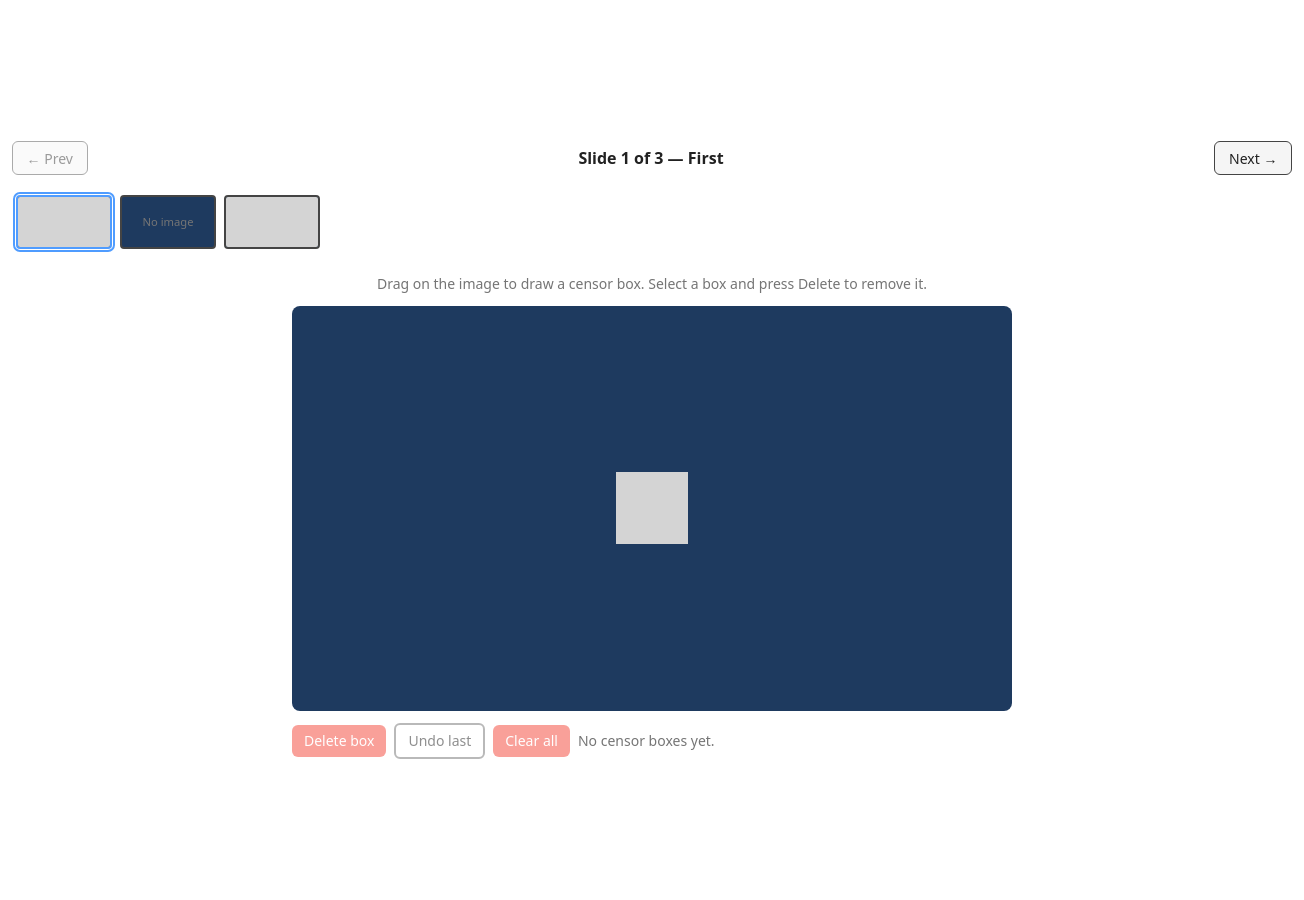
Test: CensorStep › navigates with Next / Prev, disabling at the ends
expect the button with aria-label "Previous slide" is disabled: met, box x1=12 y1=141 x2=88 y2=175
Click the button with aria-label "Next slide".
click(1253, 158)  # box x1=1214 y1=141 x2=1292 y2=175
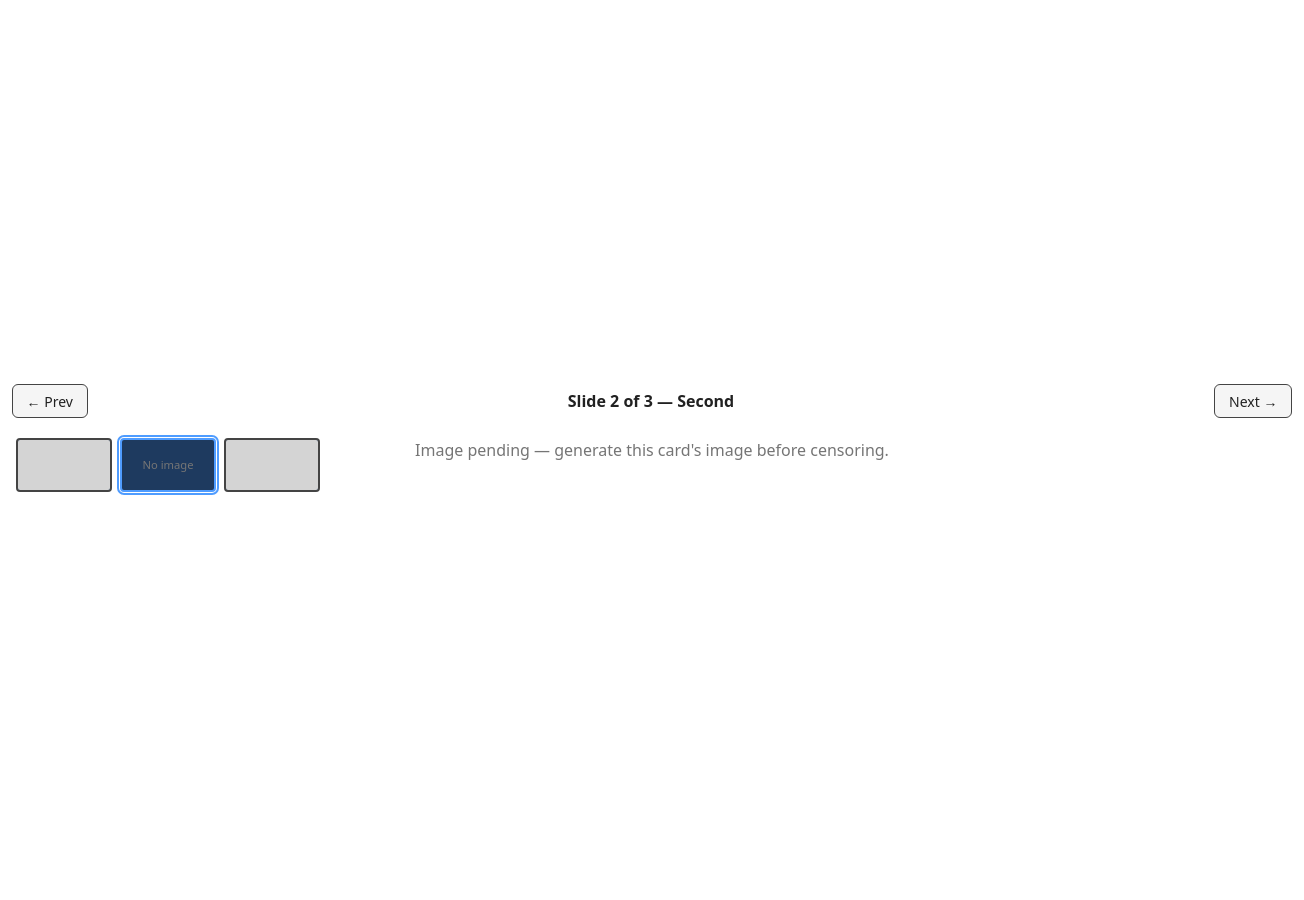
expect the text "Slide 2 of 3 — Second" is shown: met, box x1=568 y1=390 x2=734 y2=412
expect the button with aria-label "Previous slide" is enabled: met, box x1=12 y1=384 x2=88 y2=418
Click the button with aria-label "Next slide".
click(1253, 401)  # box x1=1214 y1=384 x2=1292 y2=418
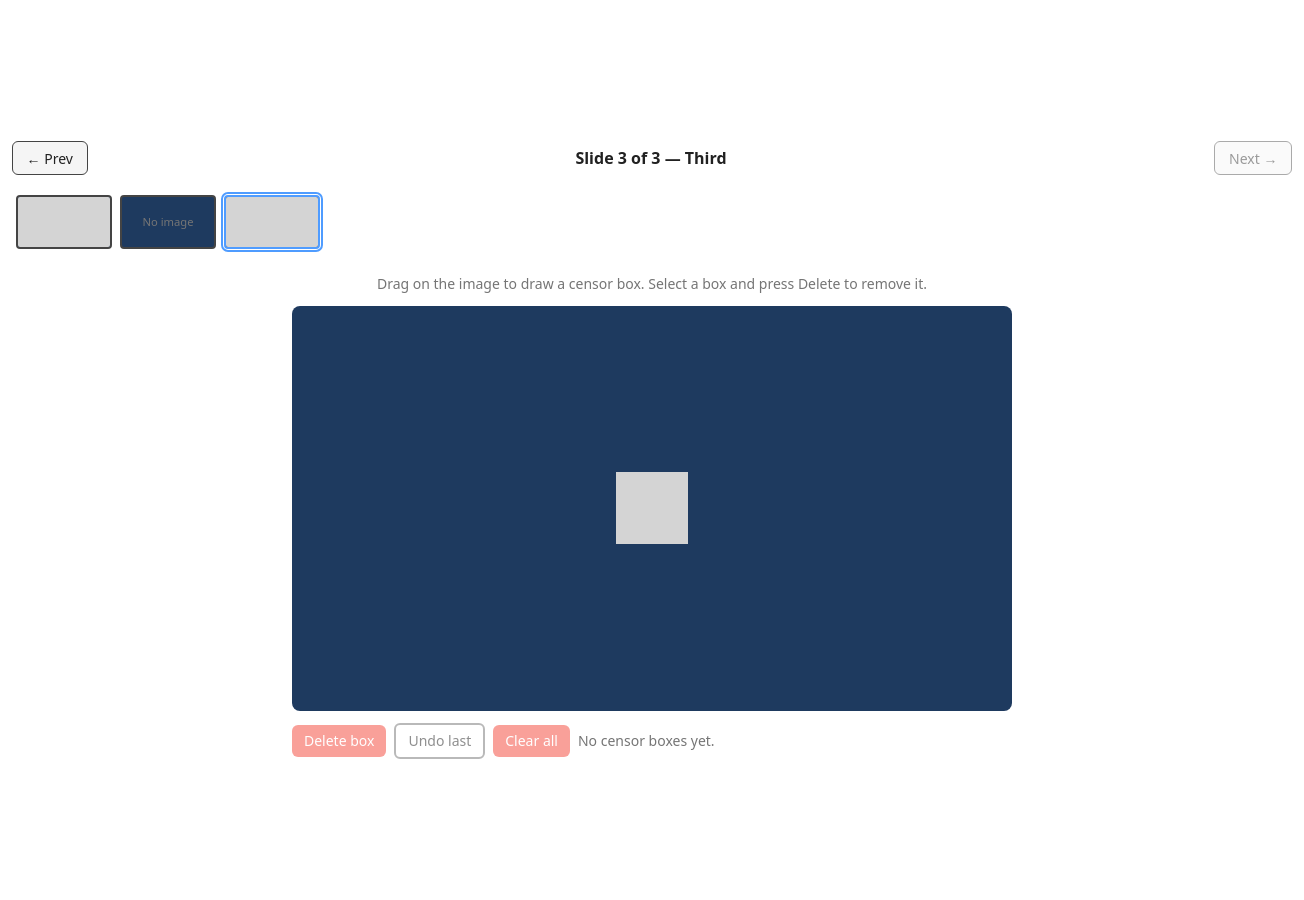
expect the text "Slide 3 of 3 — Third" is shown: met, box x1=575 y1=147 x2=726 y2=169
expect the button with aria-label "Next slide" is disabled: met, box x1=1214 y1=141 x2=1292 y2=175
